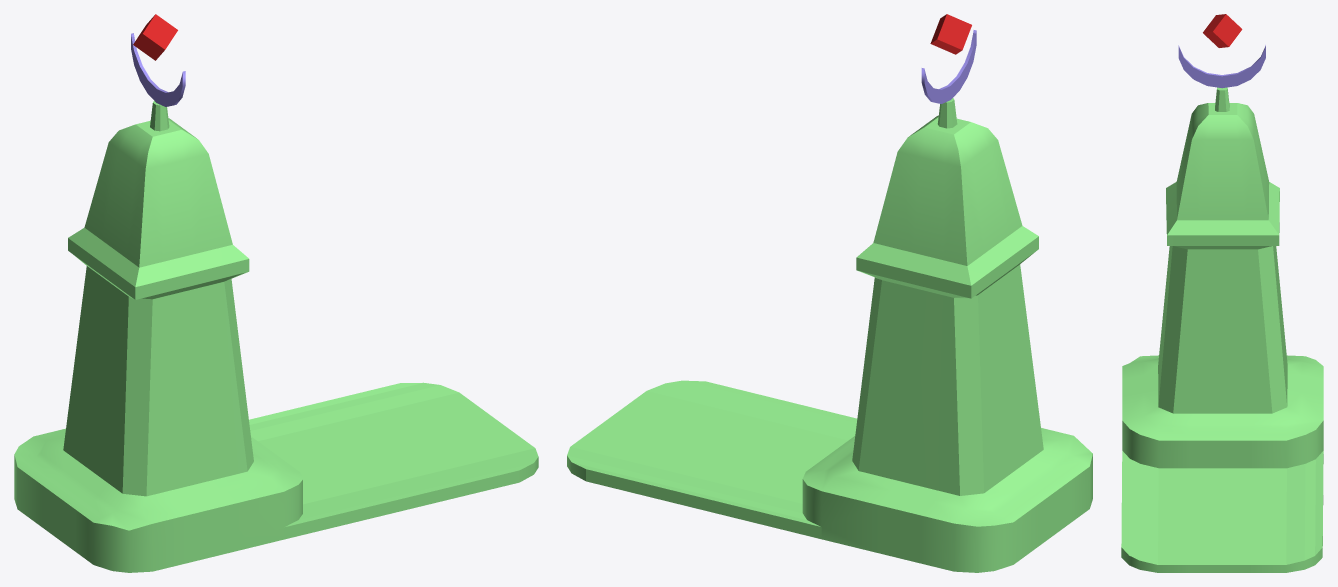
Rendered from Box_Recall_Monument.FBX.
3 views of the same model, side by side, from view 1: azimuth 30°, elevation 25°; view 2: azimuth 150°, elevation 25°; view 3: azimuth 270°, elevation 25° (orthographic). The views are drawn at different scales.
Parts seen in each view (by area): view 1: Pillar, Cube, Crescent Moon; view 2: Pillar, Crescent Moon, Cube; view 3: Pillar, Crescent Moon, Cube.
Part boxes in pixels (x1=…): Pillar: x1=14, y1=100, x2=538, y2=572; Cube: x1=133, y1=14, x2=177, y2=60; Crescent Moon: x1=131, y1=33, x2=185, y2=106; Pillar: x1=567, y1=98, x2=1092, y2=572; Crescent Moon: x1=921, y1=30, x2=976, y2=103; Cube: x1=930, y1=14, x2=971, y2=54; Pillar: x1=1121, y1=87, x2=1323, y2=572; Crescent Moon: x1=1178, y1=45, x2=1265, y2=88; Cube: x1=1203, y1=14, x2=1242, y2=47.
Size of the model in its own units: 128 by 138 by 60.23.
